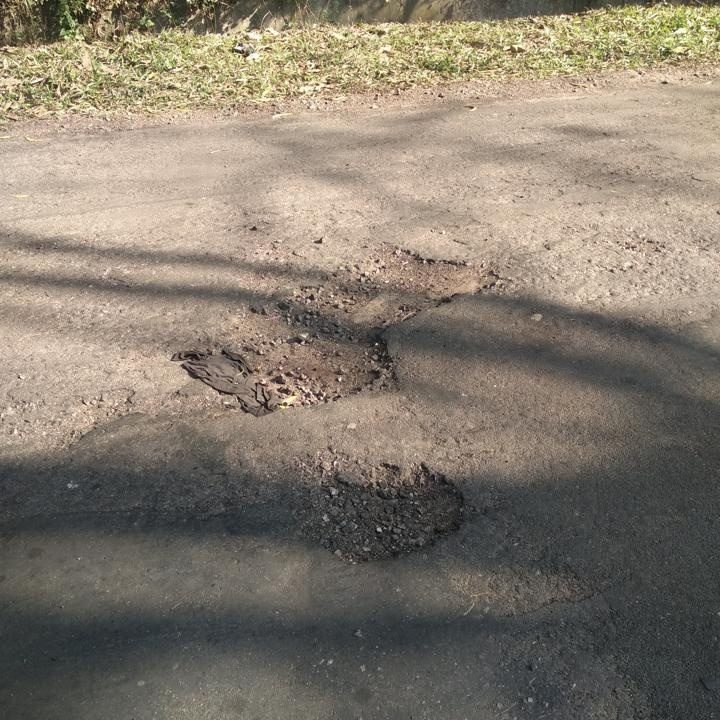pothole: (198, 235, 503, 410), (294, 455, 472, 567)
